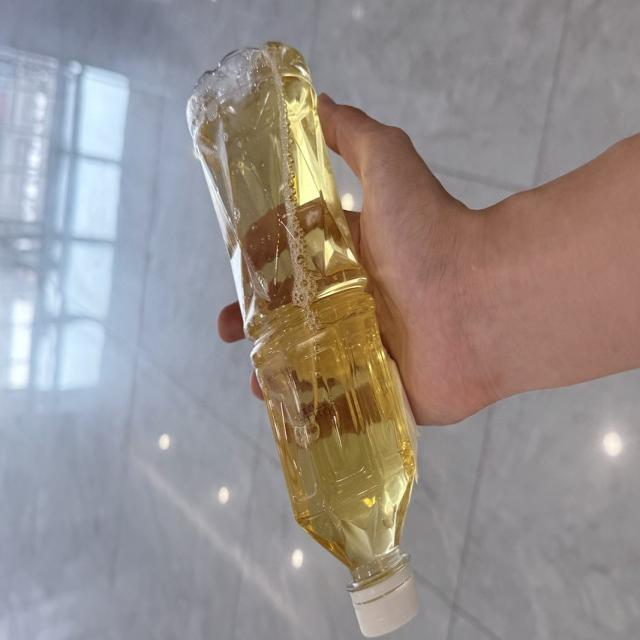high: (187, 42, 417, 634)
